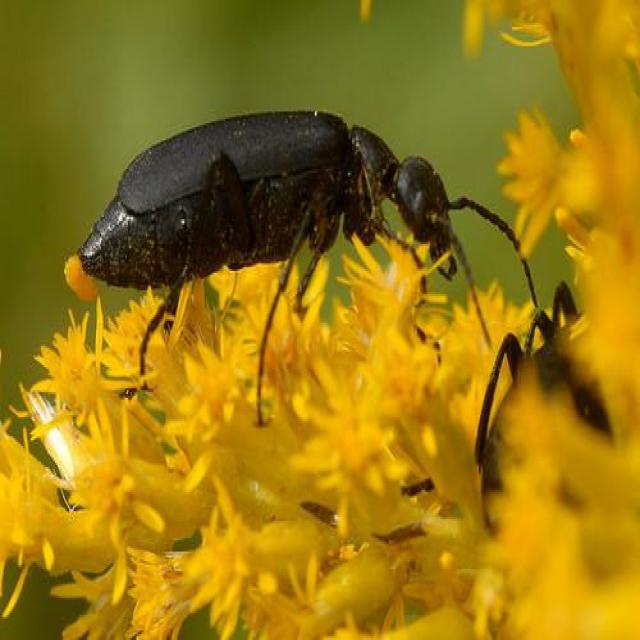BlisterBeetle-Adult-: (39, 92, 542, 422)
